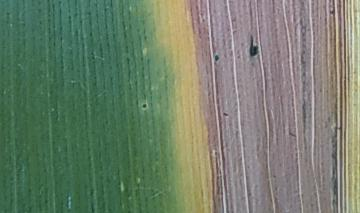tarspot: (246, 33, 261, 59), (139, 101, 151, 113), (220, 110, 232, 118), (212, 52, 220, 63), (329, 7, 337, 17)
